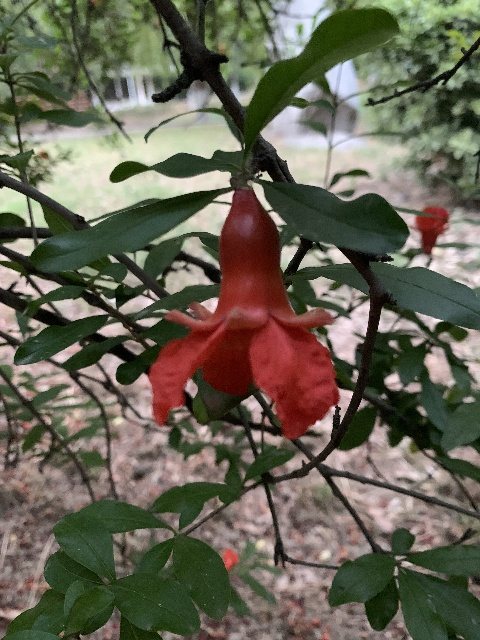flower: (148, 186, 341, 439), (413, 206, 450, 254), (221, 549, 238, 570)
